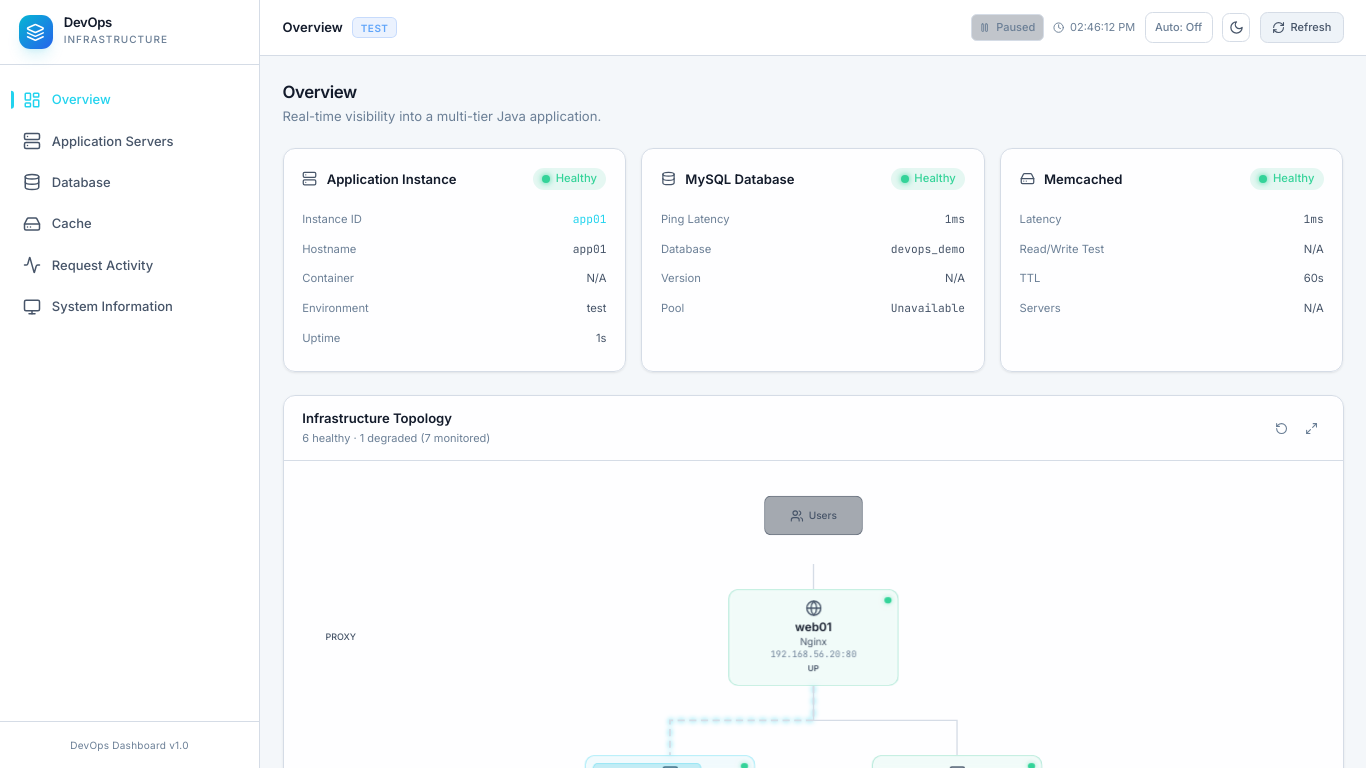
App shell › navigates between pages via sidebar
Click the button "Database" at (130, 182), box [11,163,248,202]
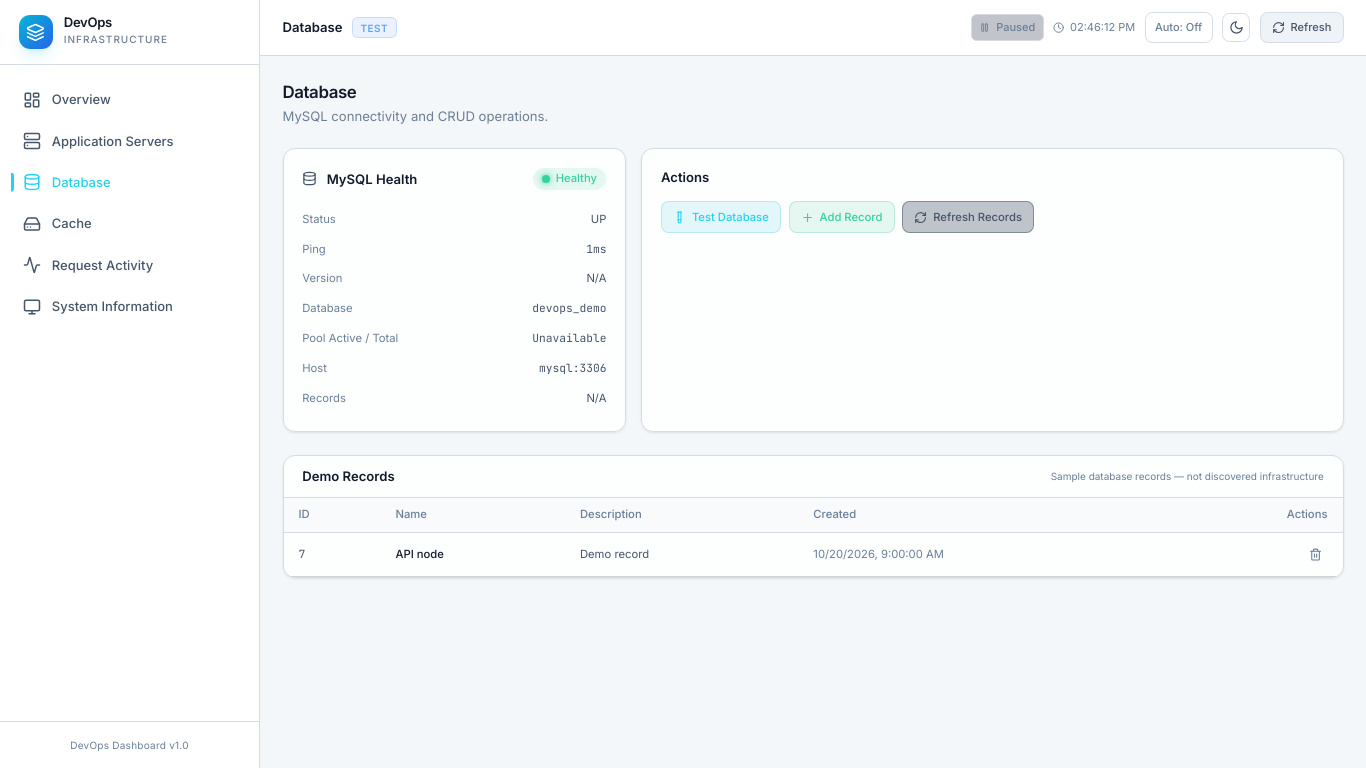
Expected: the text "MySQL connectivity and CRUD operations." is shown, [282,107,548,125]
